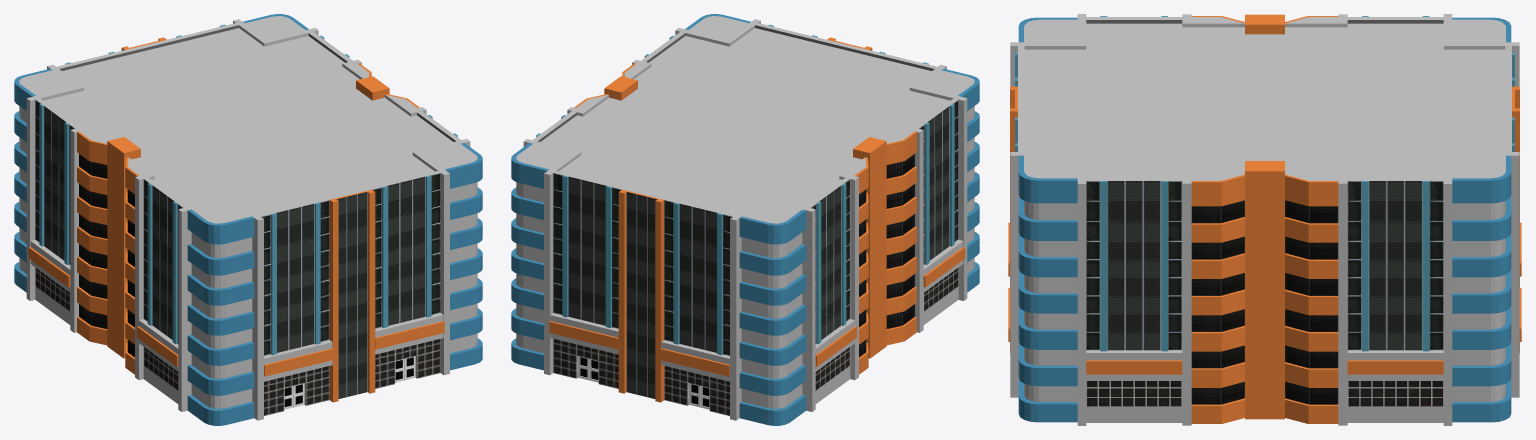
3 views of the same model, side by side, from view 1: azimuth 30°, elevation 25°; view 2: azimuth 150°, elevation 25°; view 3: azimuth 270°, elevation 25° (orthographic). The views are drawn at different scales.
Parts seen in each view (by area): view 1: Building; view 2: Building; view 3: Building.
Boxes of the visible parts, x1,y1,x2,y2 form: Building: (14, 14, 482, 425); Building: (511, 14, 979, 425); Building: (1008, 14, 1521, 425).
Size of what is drawn, in the model's own units: 30.44 by 20.51 by 38.44.
